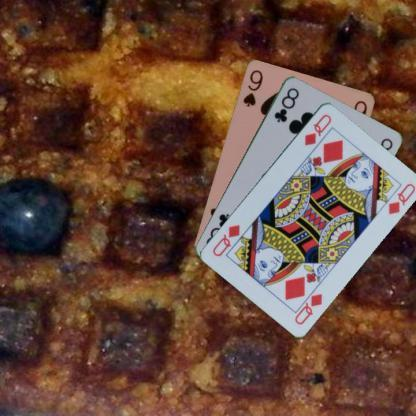8c: (271, 84, 300, 124)
9s: (240, 67, 264, 108)
Qd: (292, 283, 324, 326), (301, 111, 332, 147)
